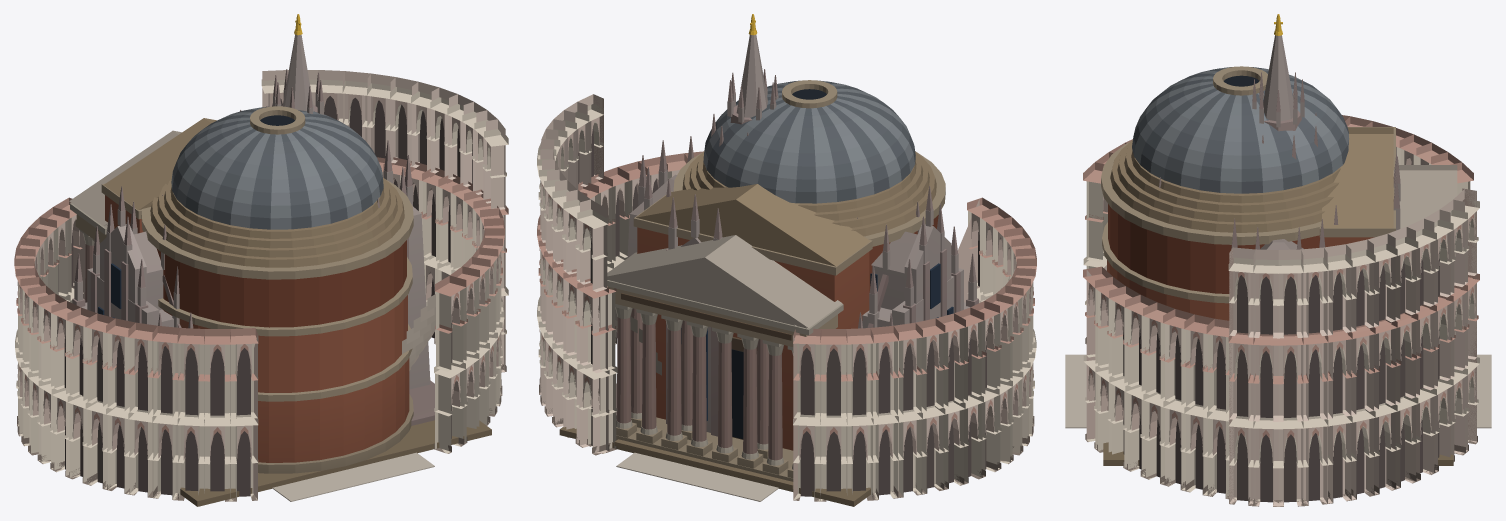
Rendered from italy_landmarks.glb.
The picture shows the model from 3 angles, left to right: view 1: azimuth 30°, elevation 25°; view 2: azimuth 150°, elevation 25°; view 3: azimuth 270°, elevation 25°; orthographic projection. The views are drawn at different scales.
Parts seen in each view (by area): view 1: VERONA_ARENA, PANTHEON, MILAN_DUOMO; view 2: PANTHEON, VERONA_ARENA, MILAN_DUOMO; view 3: VERONA_ARENA, PANTHEON, MILAN_DUOMO.
Boxes of the visible parts, left/top/right/bottom form: VERONA_ARENA: left=14, top=70, right=508, bottom=501; PANTHEON: left=69, top=106, right=491, bottom=506; MILAN_DUOMO: left=72, top=14, right=434, bottom=425; PANTHEON: left=559, top=80, right=945, bottom=506; VERONA_ARENA: left=537, top=94, right=1036, bottom=501; MILAN_DUOMO: left=616, top=14, right=978, bottom=436; VERONA_ARENA: left=1065, top=115, right=1491, bottom=506; PANTHEON: left=1101, top=66, right=1457, bottom=465; MILAN_DUOMO: left=1159, top=14, right=1400, bottom=249.
Bounding box in the file's own units: 11.67 × 9.5 × 9.24.
